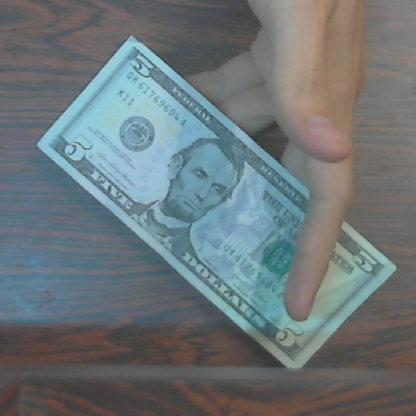five-front: (33, 32, 406, 374)
